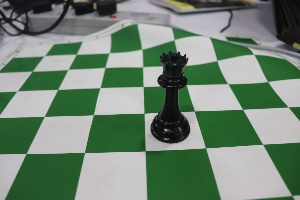black_queen: (145, 39, 195, 149)
